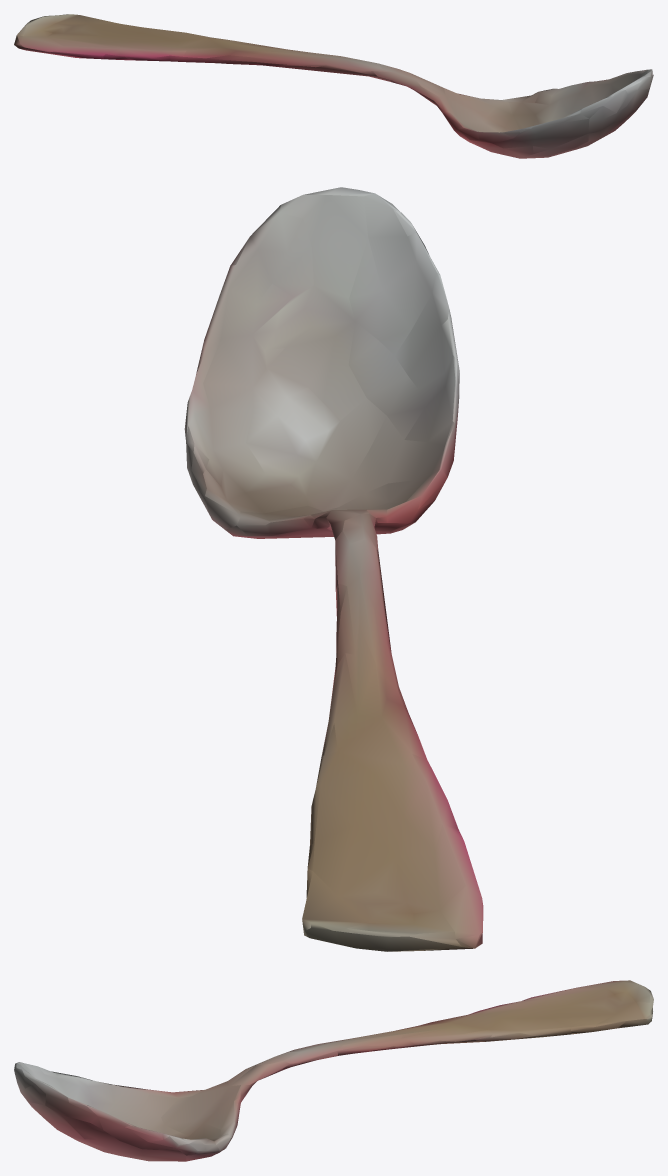
The model's file is 0005_mask_006_spoon.glb.
The picture shows the model from 3 angles, top to bottom: view 1: azimuth 30°, elevation 25°; view 2: azimuth 150°, elevation 25°; view 3: azimuth 270°, elevation 25°; orthographic projection. The views are drawn at different scales.
Parts seen in each view (by area): view 1: mask_006_object; view 2: mask_006_object; view 3: mask_006_object.
Boxes of the visible parts, x1,y1,x2,y2 form: mask_006_object: (14,14,653,158); mask_006_object: (184,187,483,951); mask_006_object: (14,980,653,1161).
Bounding box in the file's own units: 0.2048 × 0.0556 × 0.2851.
